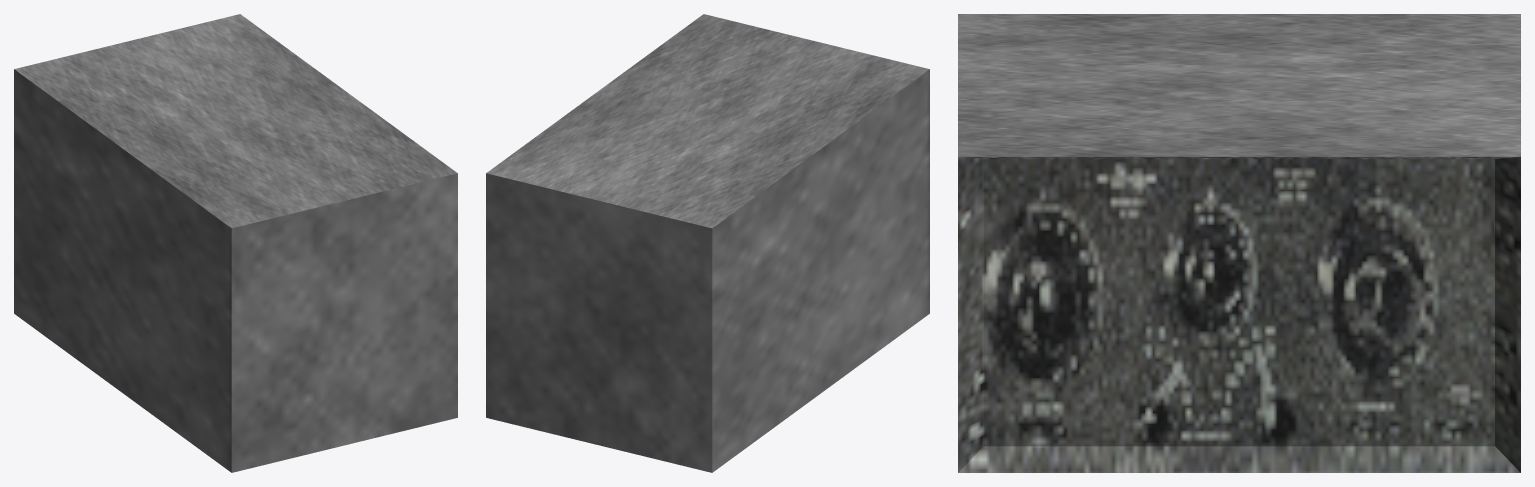
File: radio.glb
3 renders of one model, left to right at view 1: azimuth 30°, elevation 25°; view 2: azimuth 150°, elevation 25°; view 3: azimuth 270°, elevation 25°, orthographic. The views are drawn at different scales.
Visible parts, largest first — view 1: Cube; view 2: Cube; view 3: Cube.
Part boxes in pixels (x1,y1,x2,y2): Cube: [14, 14, 457, 472]; Cube: [486, 14, 929, 472]; Cube: [958, 14, 1520, 472].
Bounding box in the file's own units: 1.2 × 1.24 × 2.
Materials: 1 (1 with a texture image).
